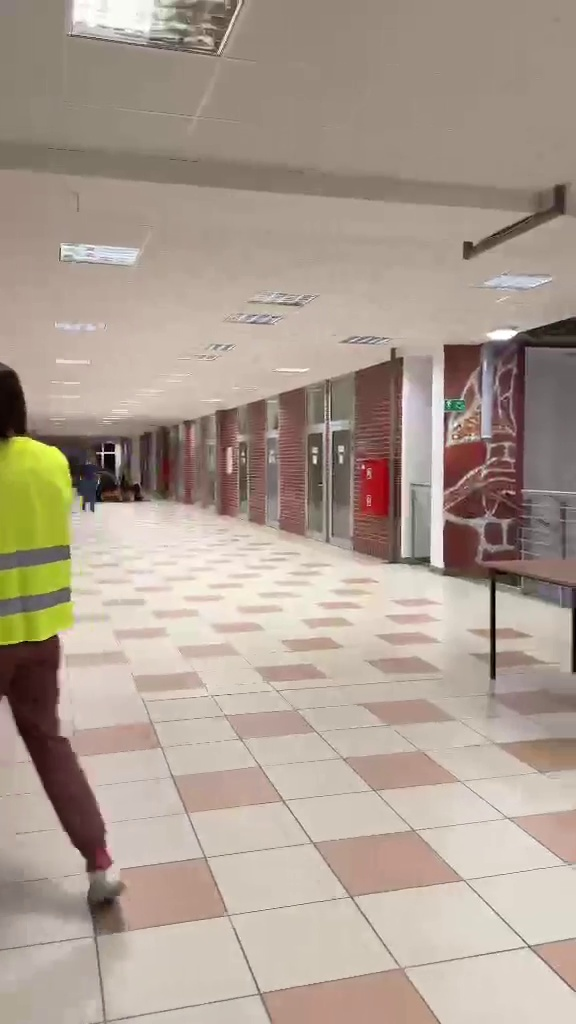vest: (0, 353, 128, 915)
